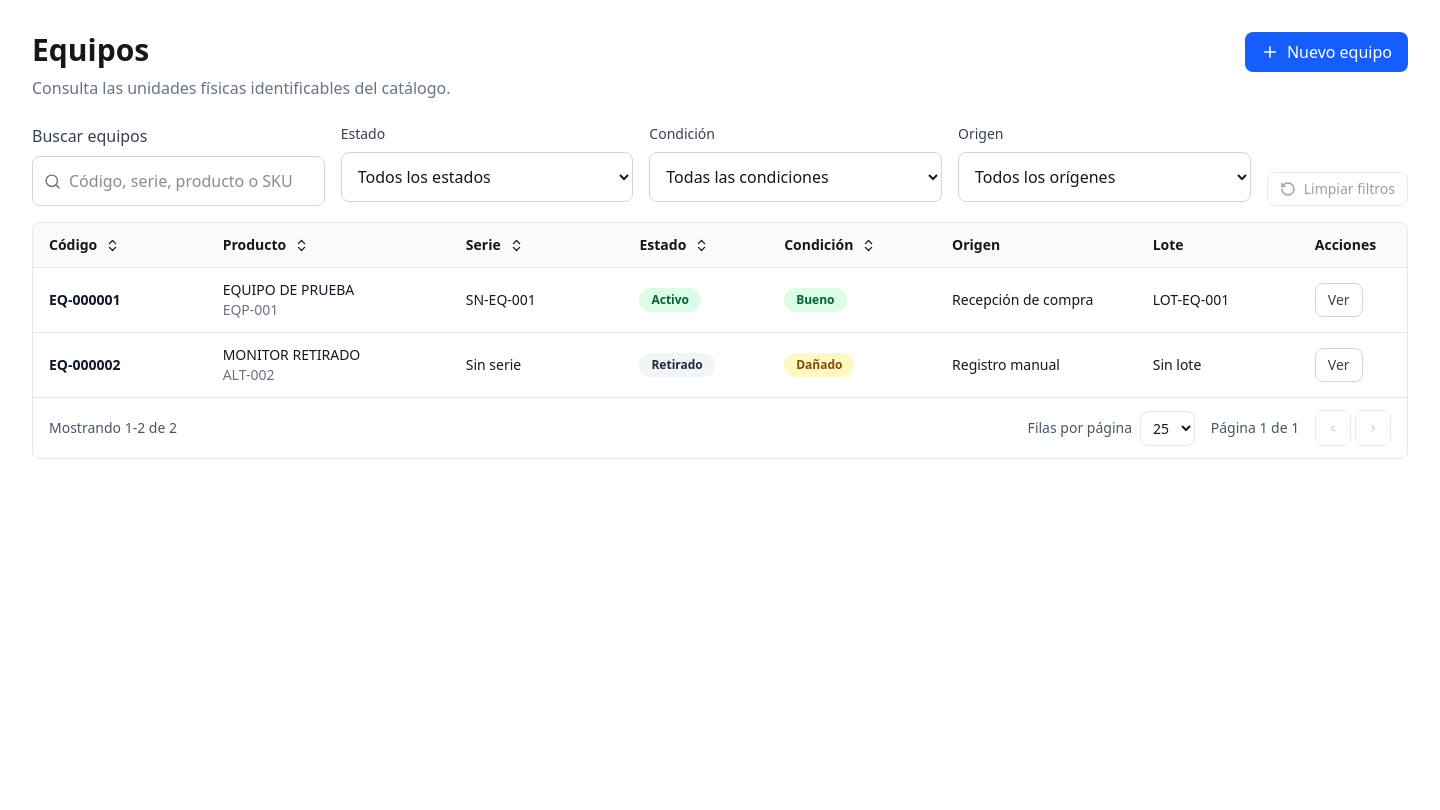
Test: EquipmentPage › distingue la ausencia de productos elegibles de un error de API
Expected: the text "EQ-000001" is shown, [49, 290, 120, 309]
Click the button "Nuevo equipo" at (1326, 52), box [1245, 32, 1408, 72]
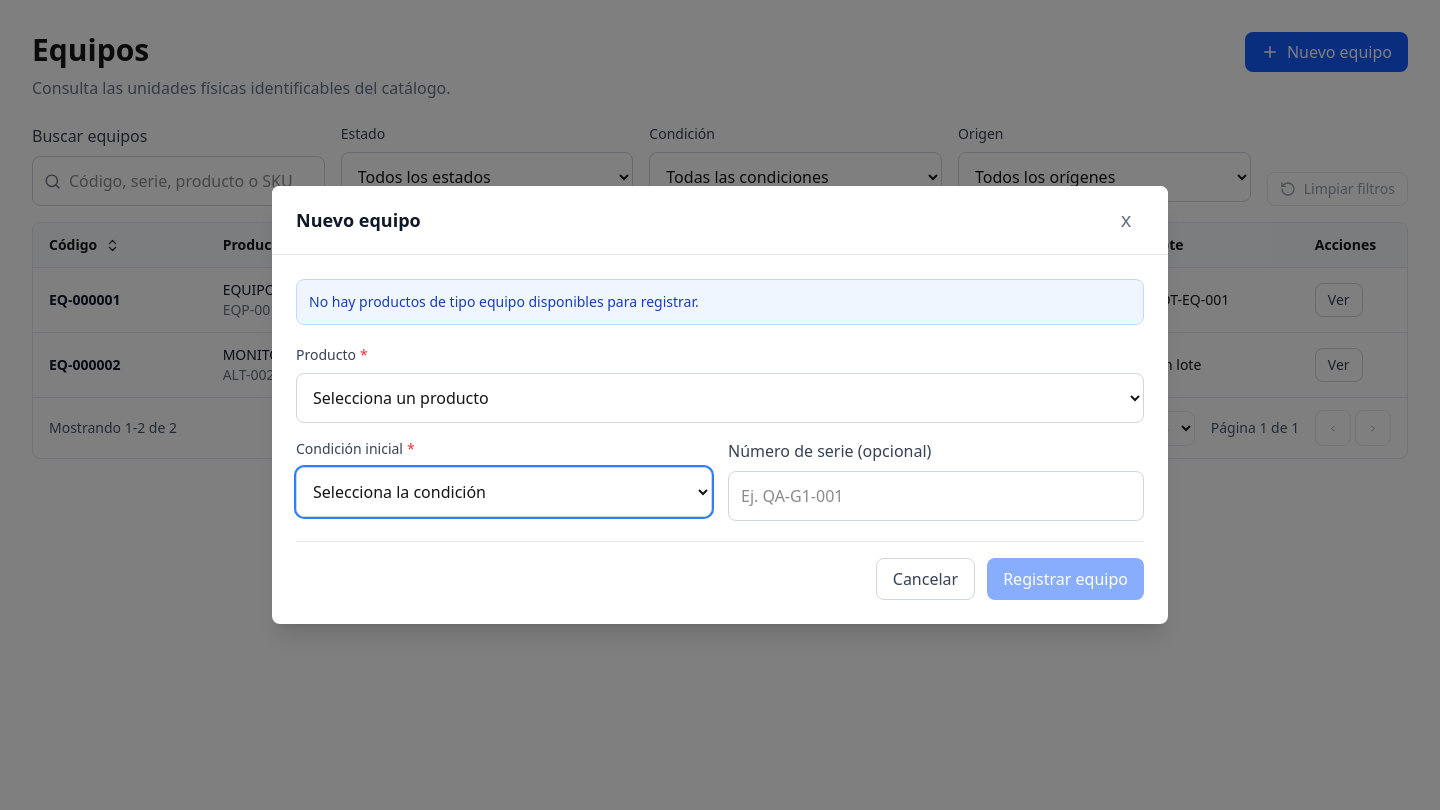
Expected: the text "No hay productos de tipo equipo disponibles para registrar." is shown, [296, 279, 1144, 325]
Expected: the button "Registrar equipo" is disabled, [987, 558, 1144, 600]
